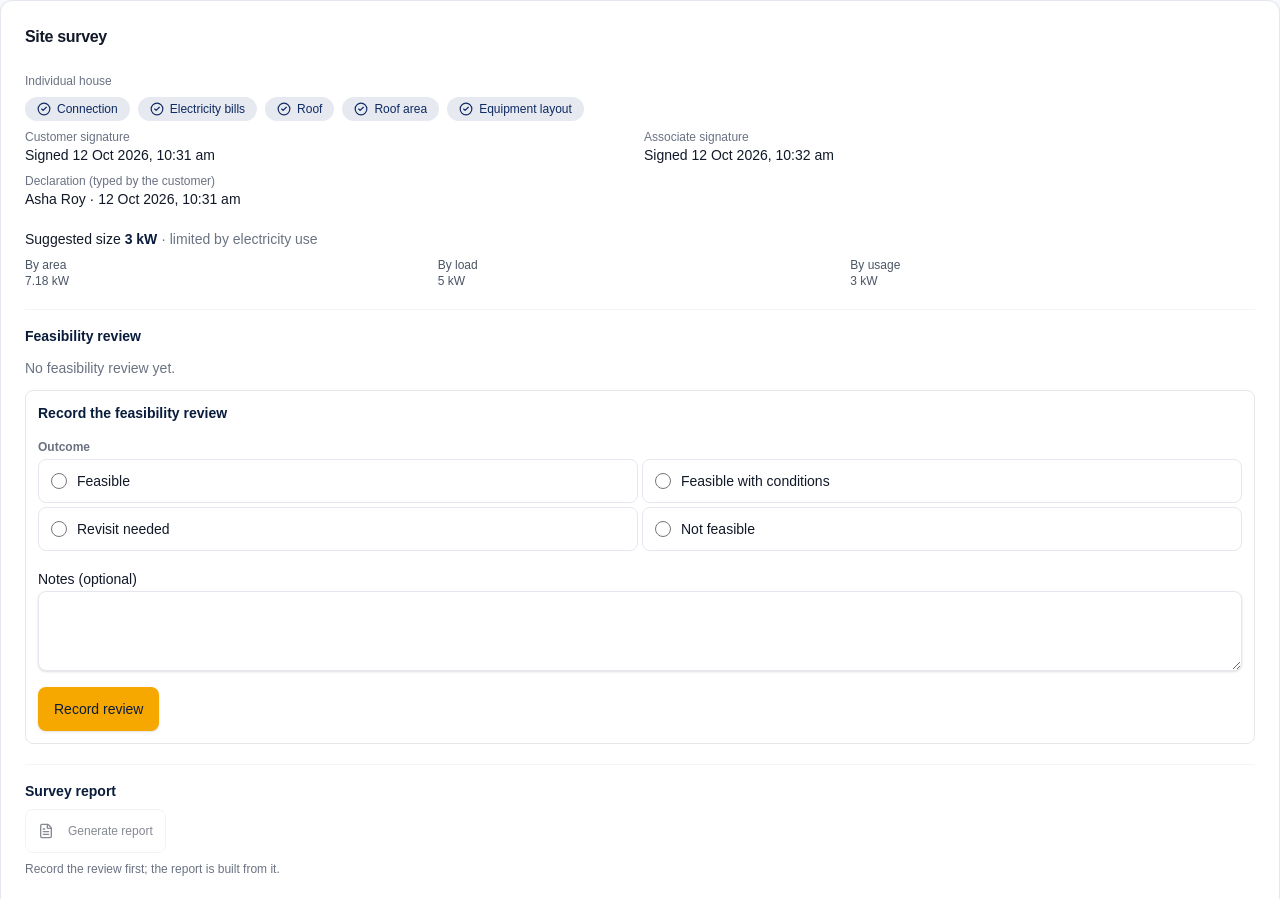
Test: SurveyPanel — review form conditional requirements › feasible_with_conditions needs at least one condition (aria-invalid, focused, nothing sent)
What coordinates should you click on to do the following:
click the radio button labelled "Feasible with conditions"
I would click on:
 (663, 481)
Its box is [655,473,671,489].
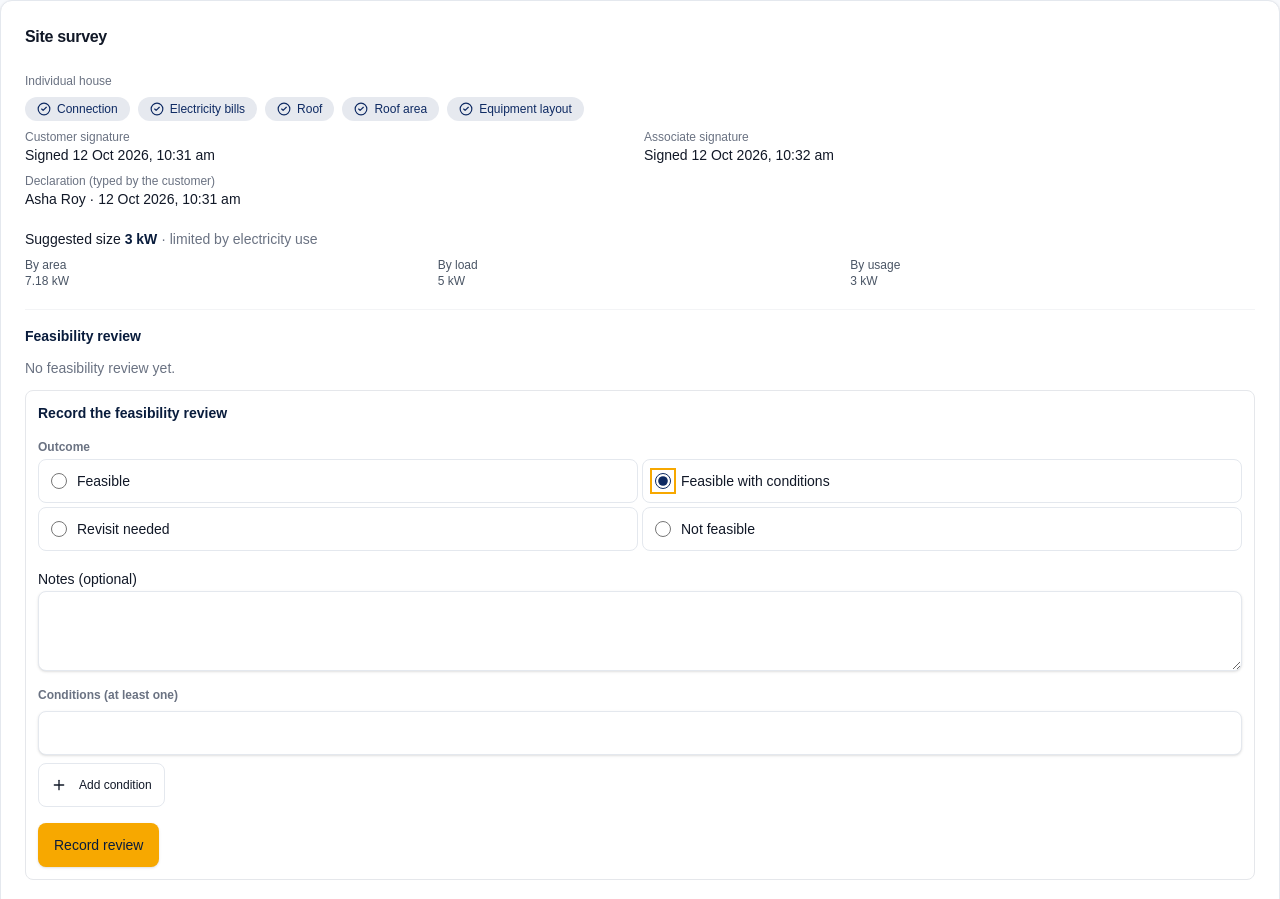
What coordinates should you click on to do the following:
click the button "Record review"
I would click on:
 (99, 845)
Its box is [38,823,160,867].
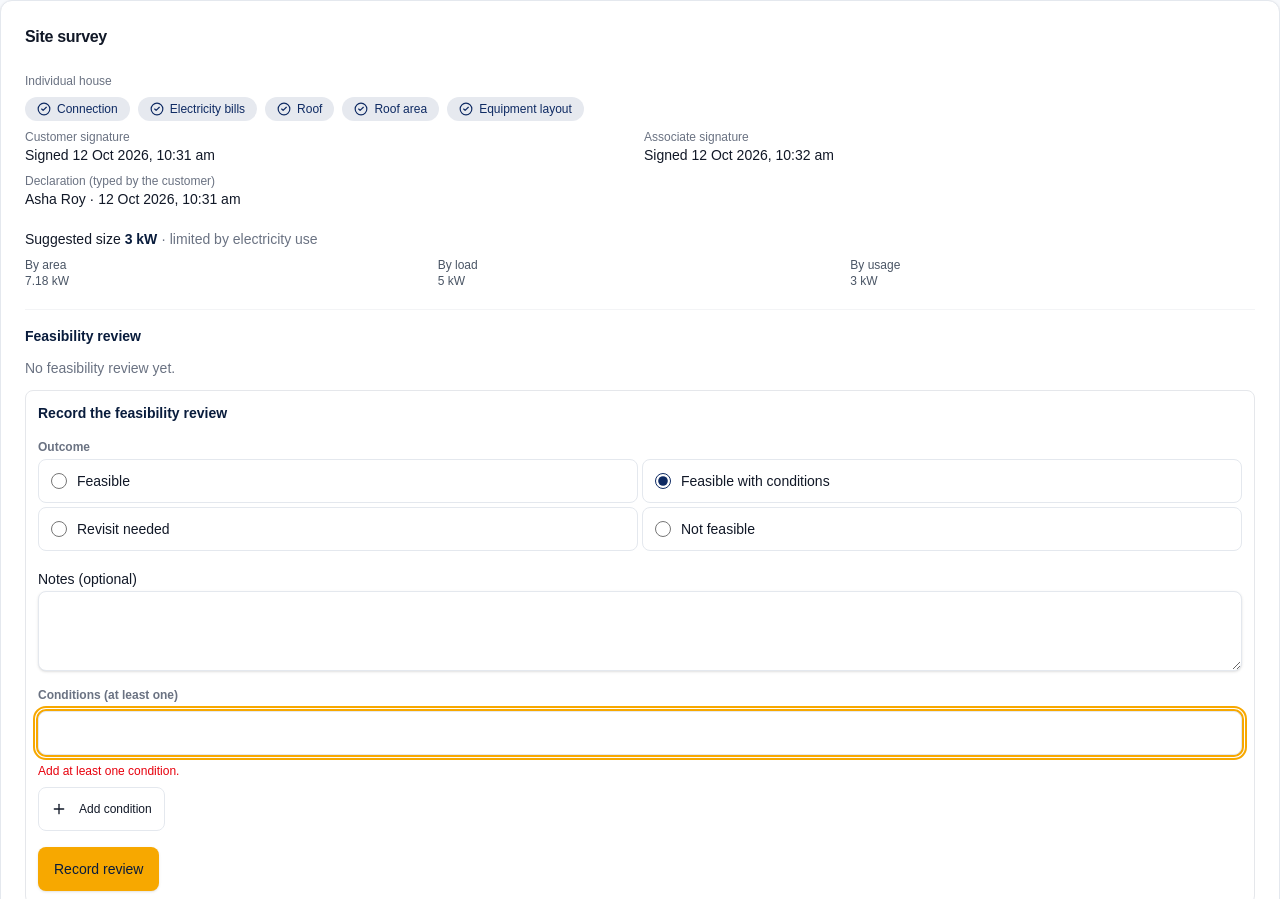
Expected: the text "Add at least one condition." is shown, [38,764,179,778]
